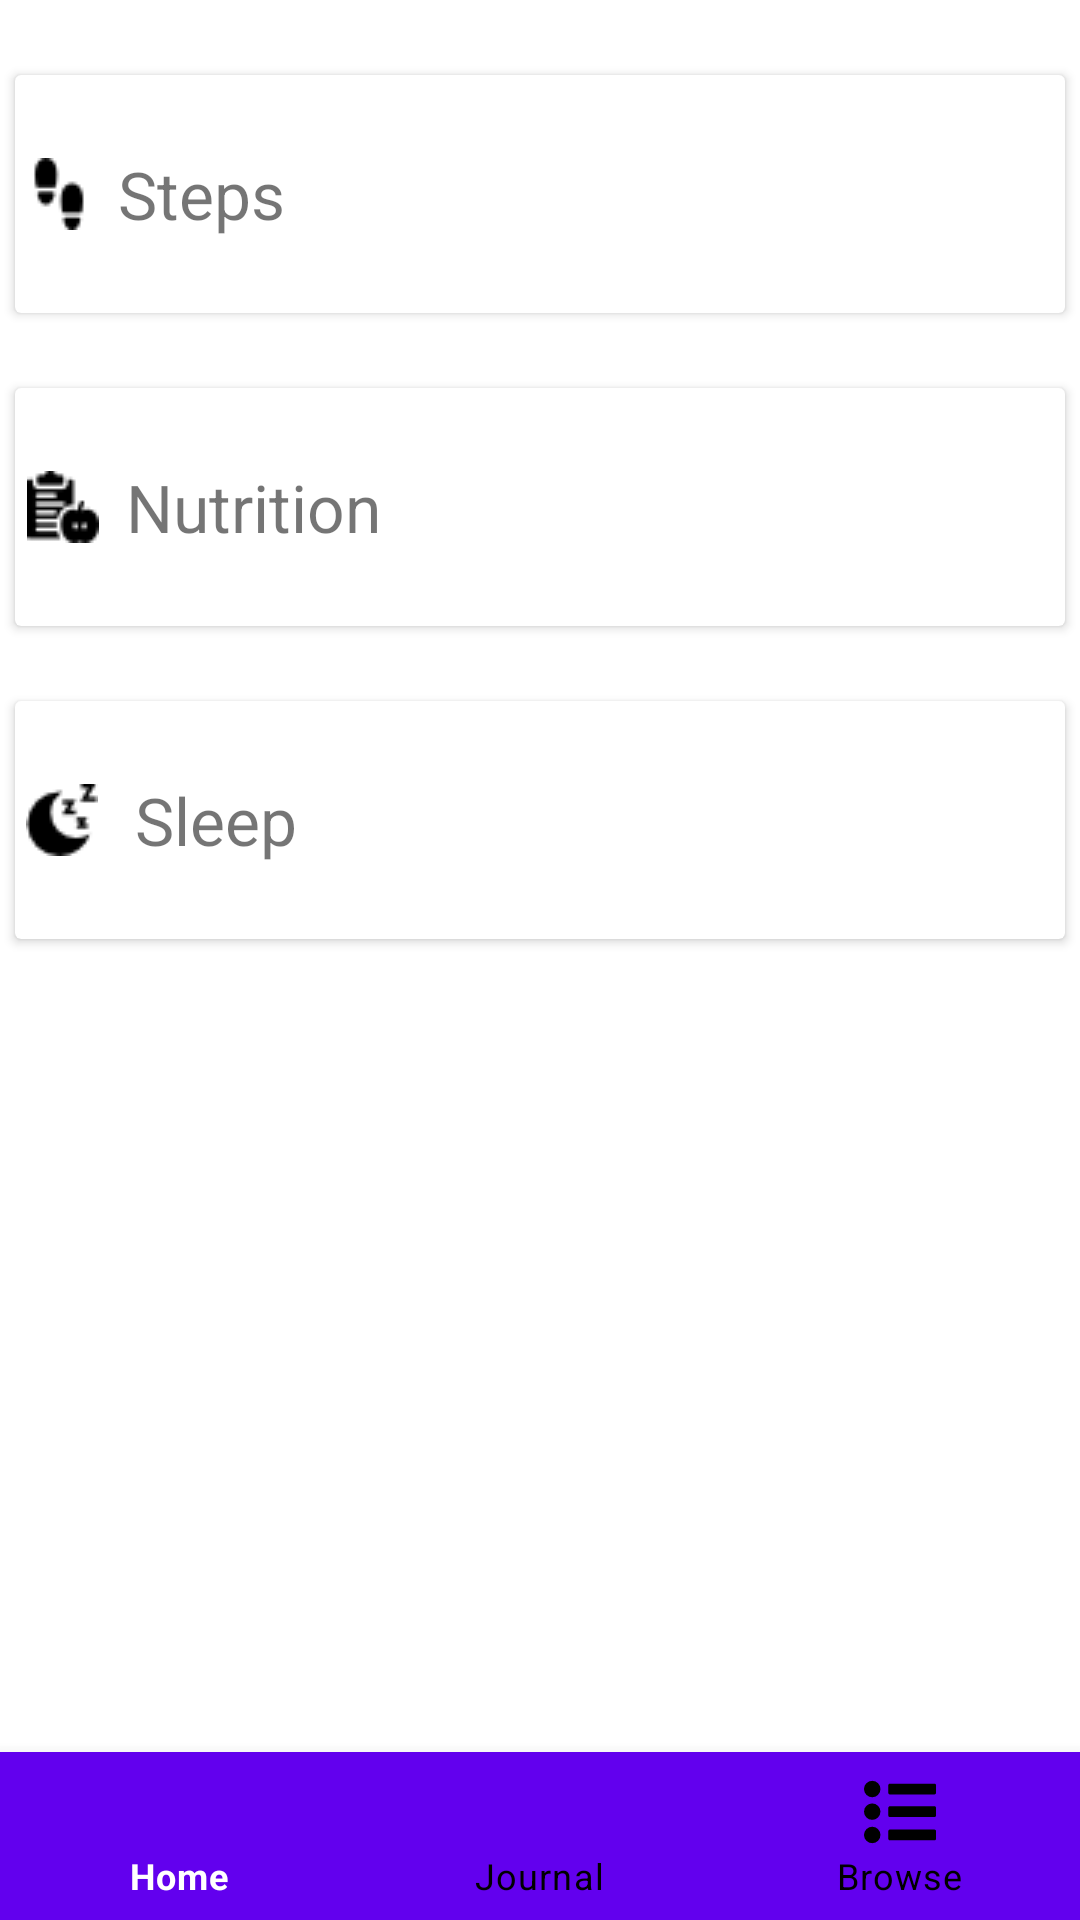

Screen size 1080 x 1920. Icon name, then its center in pixels as [x,y]:
diet: [63,507]
footprint: [59,194]
